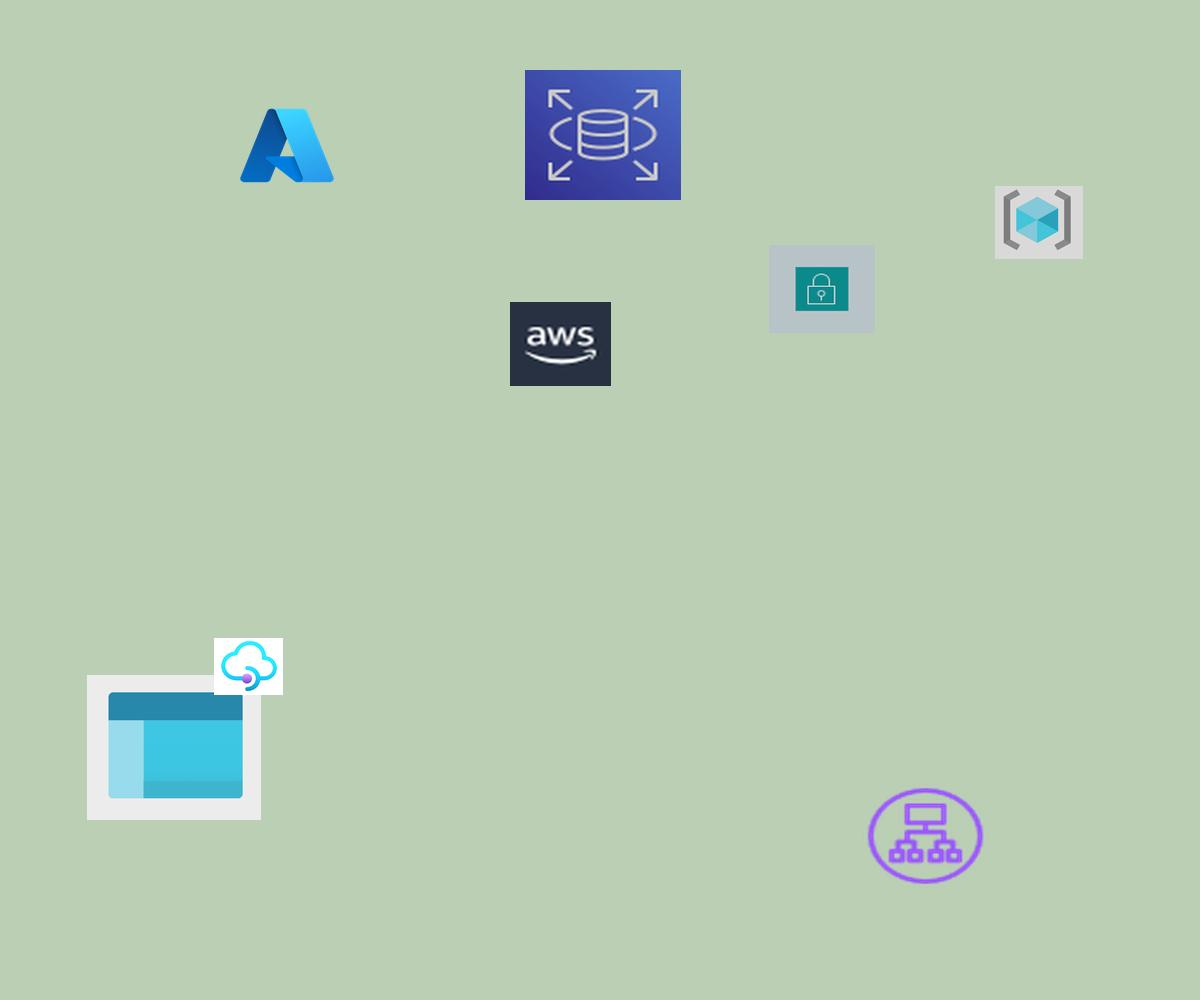AWS-Cloud-logo: (510, 302, 611, 386)
AWS-Private-subnet: (769, 245, 875, 333)
AWS-RDS: (525, 70, 681, 200)
AWS-Res_Elastic-Load-Balancing_Application-Load-Balancer: (863, 784, 988, 888)
Azure_api_gateway: (214, 638, 283, 695)
Azure_management-portal: (87, 675, 261, 820)
Azure_resource_group: (995, 186, 1083, 259)
Azure_services: (236, 103, 338, 188)
